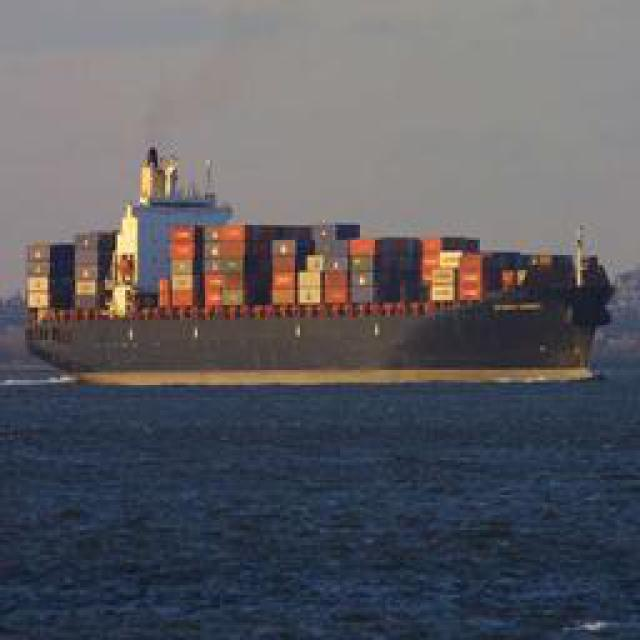Ship: (17, 141, 620, 390)
